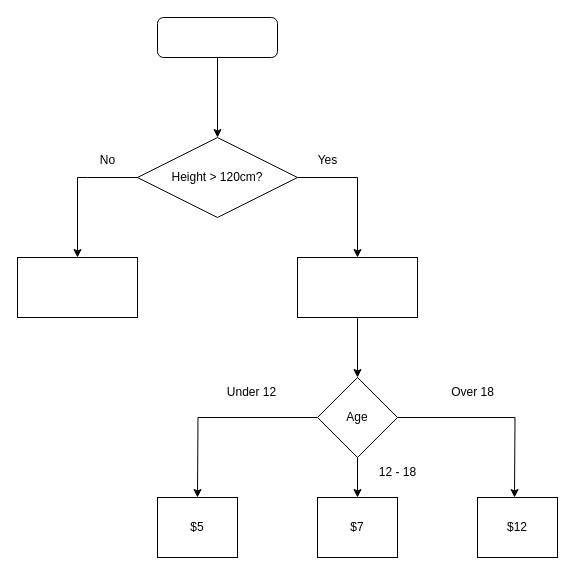
Some shapes in this 575 by 583 pixel diagram are drawn without their labels. Here are the shapes that lost their labels. From the top down, the box of each, then its label:
(156, 16, 278, 58): Start
(16, 256, 138, 318): Can't Ride
(296, 256, 418, 318): Can Ride
